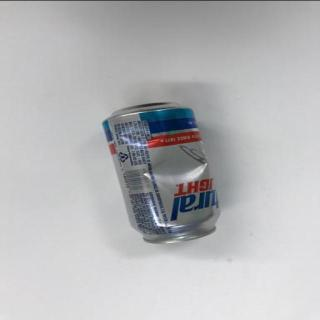Anorganik: (98, 95, 224, 248)
